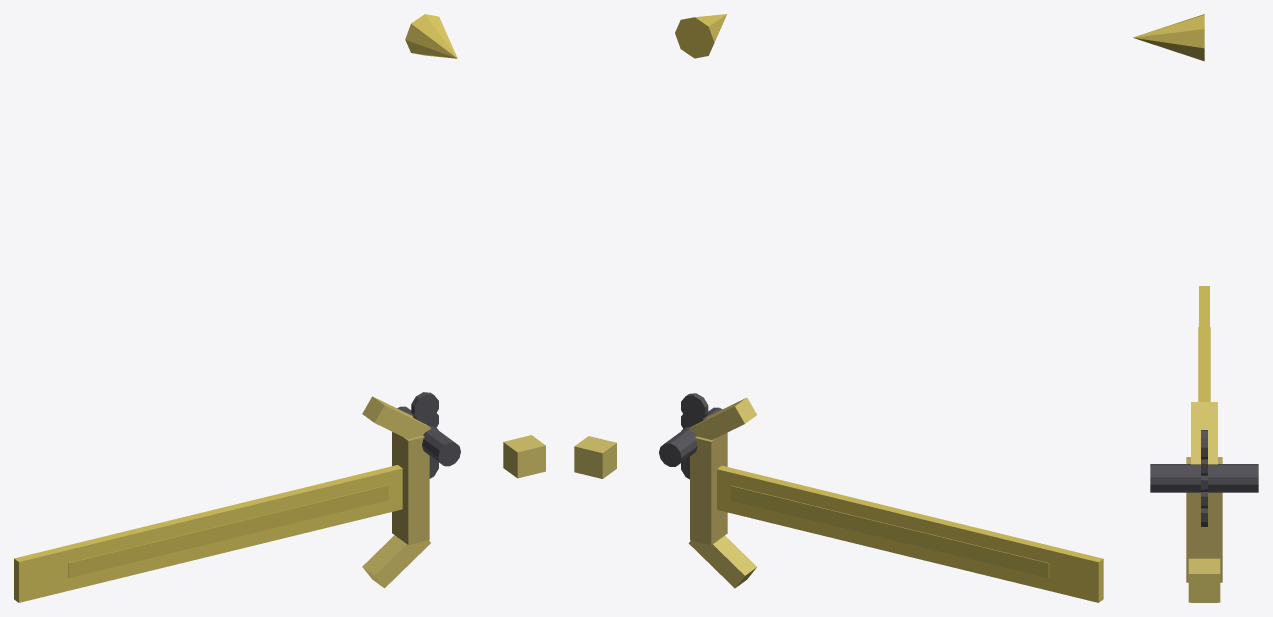
File: gunes_kilic.glb
The picture shows the model from 3 angles, left to right: view 1: azimuth 30°, elevation 25°; view 2: azimuth 150°, elevation 25°; view 3: azimuth 270°, elevation 25°; orthographic projection. The views are drawn at different scales.
Visible parts, largest first — view 1: geometry_0; view 2: geometry_0; view 3: geometry_0.
Boxes of the visible parts, x1,y1,x2,y2 form: geometry_0: [14, 14, 545, 602]; geometry_0: [574, 14, 1103, 602]; geometry_0: [1133, 14, 1258, 602].
Size of the model in its own units: 0.735 by 0.7512 by 0.14.
